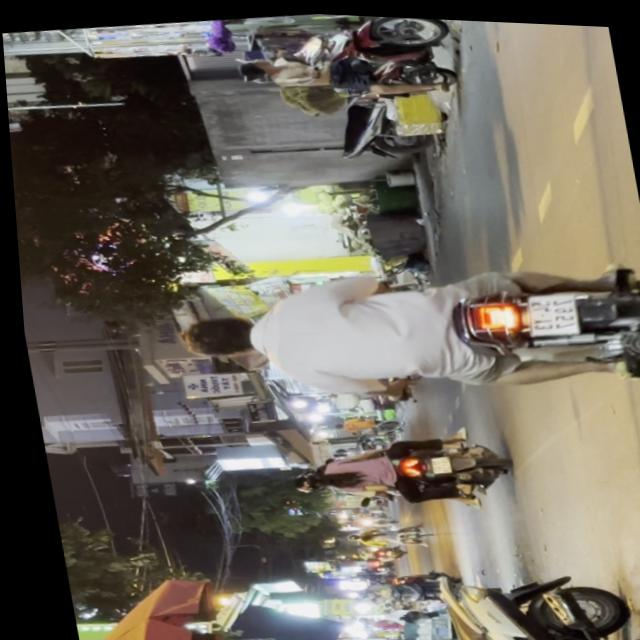helmet: (283, 465, 320, 490)
licenseplate: (159, 227, 640, 430), (222, 8, 470, 117), (275, 416, 510, 518)
motorcyclist: (171, 305, 261, 360), (233, 53, 274, 79)
nohelmet: (519, 285, 575, 332), (421, 450, 443, 469)
